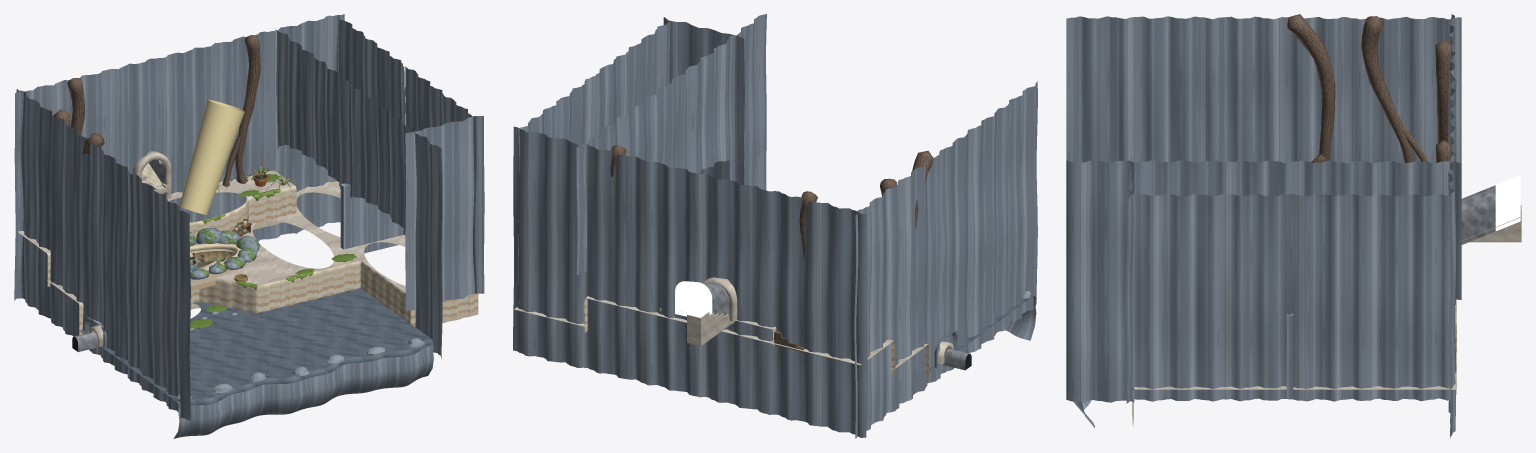
Rendered from pools-room.glb.
The picture shows the model from 3 angles, left to right: view 1: azimuth 30°, elevation 25°; view 2: azimuth 150°, elevation 25°; view 3: azimuth 270°, elevation 25°; orthographic projection. The views are drawn at different scales.
Visible parts, largest first — view 1: shell, beam, decor, bowl-dark, bowl; view 2: shell; view 3: shell.
Boxes of the visible parts, <box> form: shell: <box>14,14,484,438</box>; beam: <box>179,99,244,214</box>; decor: <box>174,151,424,401</box>; bowl-dark: <box>189,227,259,279</box>; bowl: <box>190,243,241,290</box>; shell: <box>513,14,1037,438</box>; shell: <box>1066,14,1521,437</box>.
Size of the model in its own units: 20.3 by 13.34 by 20.05.
Materials: 71 (34 with a texture image).
